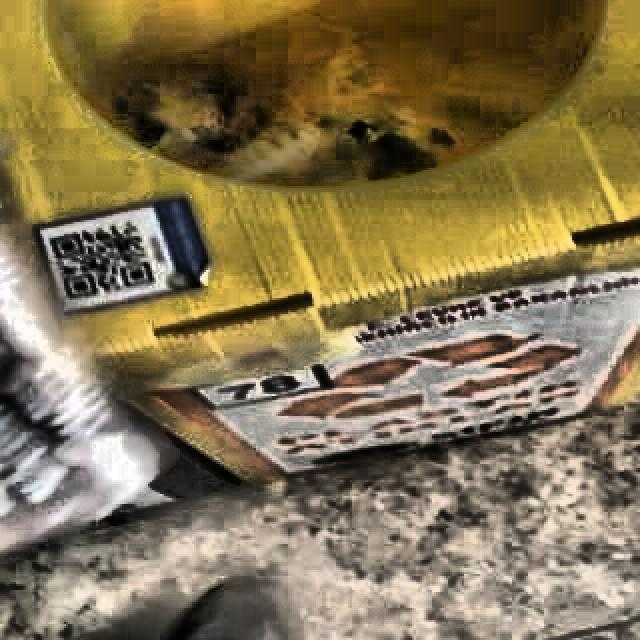plastic: (0, 160, 171, 554)
